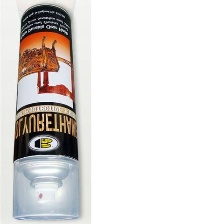aerosol_cans: (9, 2, 82, 222)
